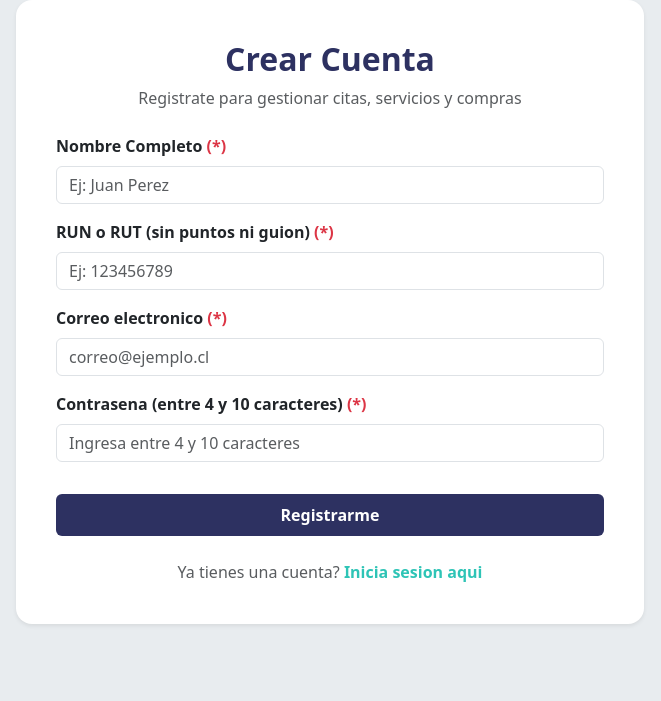
Prueba 12: rechazar RUN invalido
The width and height of the screenshot is (661, 701).
Type "Pedro Soto" into the field with placeholder "Ej: Juan Perez". click: (330, 185)
box: [56,166,604,204]
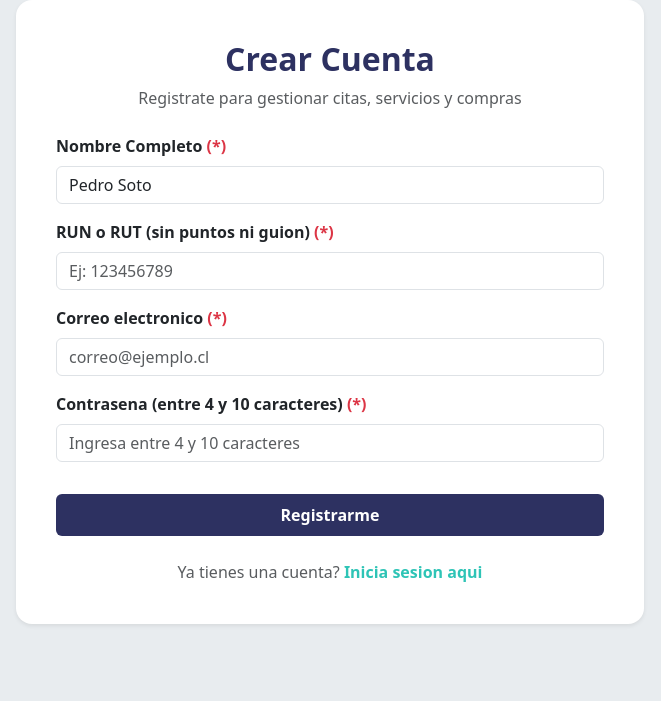
Type "123456780" into the field with placeholder "Ej: 123456789". click: (330, 271)
box: [56,252,604,290]
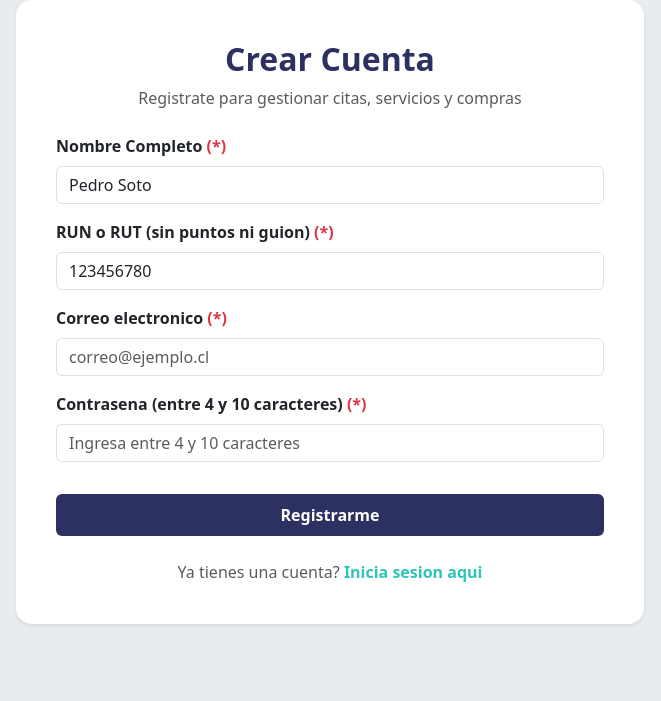
Type "pedro@correo.cl" into the field with placeholder "correo@ejemplo.cl". click: (330, 357)
box: [56,338,604,376]
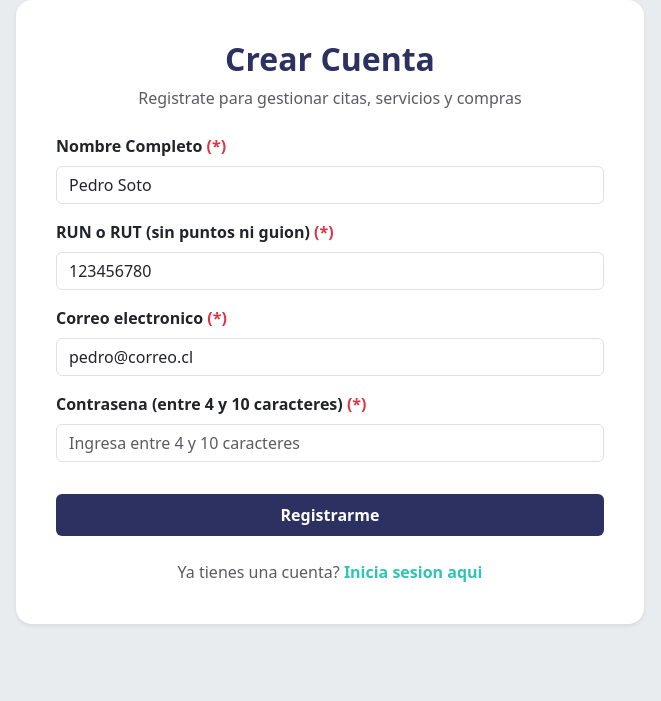
Type "123456" into the password field with placeholder "Ingresa entre 4 y 10 caracteres". click: (330, 443)
box: [56,424,604,462]
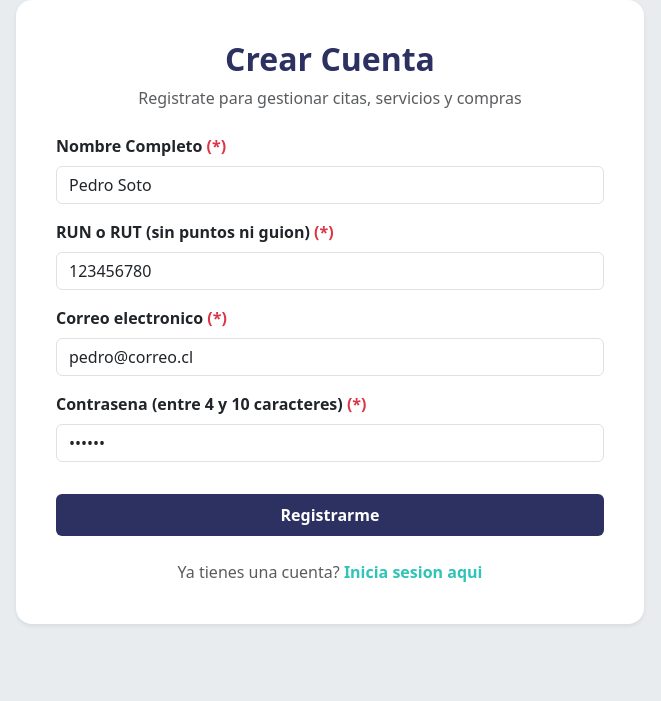
Click the button "Registrarme". click: click(330, 515)
box: [56,494,604,536]
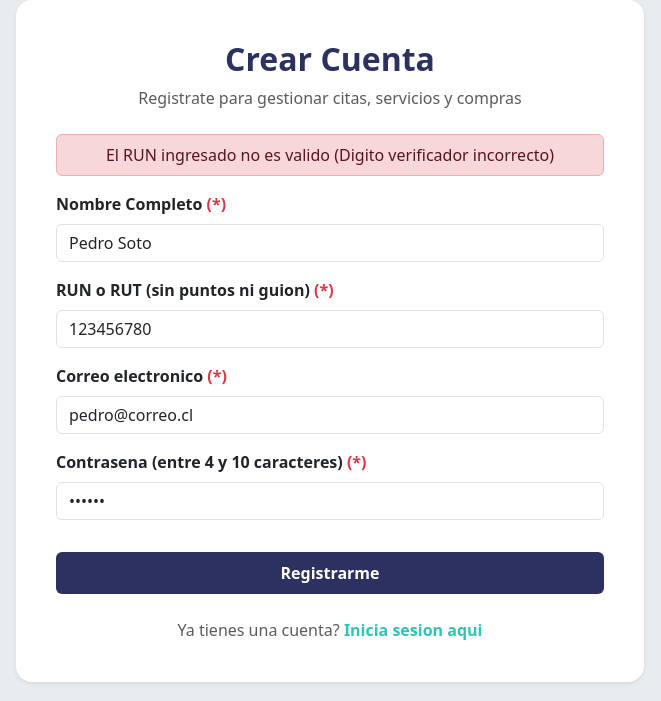
Now the message shows "Digito verificador incorrecto", box [106,144,554,166]
